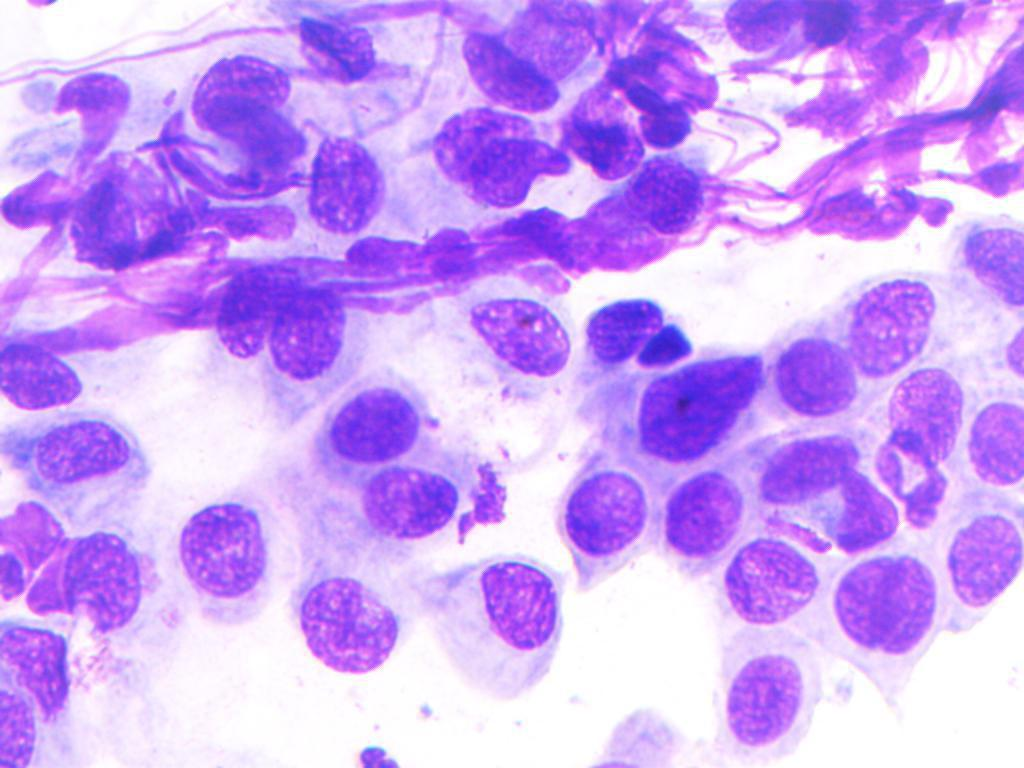artifact: (787, 44, 1024, 246), (358, 206, 593, 314), (607, 14, 724, 150), (17, 52, 141, 174), (66, 158, 204, 266), (562, 78, 644, 178), (0, 171, 69, 243)
epithelial: (413, 553, 571, 713), (286, 547, 405, 688), (158, 484, 268, 618), (708, 631, 822, 759), (627, 352, 767, 456), (28, 518, 139, 633), (447, 293, 574, 393), (546, 462, 653, 579), (0, 322, 112, 427), (836, 549, 939, 662), (16, 418, 151, 501), (622, 146, 723, 248), (315, 368, 420, 466), (424, 99, 534, 189), (459, 138, 584, 216), (941, 505, 1023, 622), (210, 253, 293, 367), (717, 540, 825, 627), (577, 295, 703, 367), (849, 272, 935, 376), (307, 125, 387, 236), (194, 46, 297, 132), (266, 286, 350, 390), (0, 619, 88, 718), (883, 364, 969, 464), (662, 462, 741, 570), (286, 3, 389, 84), (716, 0, 824, 77), (821, 462, 916, 549), (760, 427, 857, 511), (348, 465, 465, 533), (949, 220, 1024, 321), (776, 327, 850, 425), (964, 380, 1023, 489), (0, 677, 53, 761)
goblet_cell: (452, 4, 594, 117)
